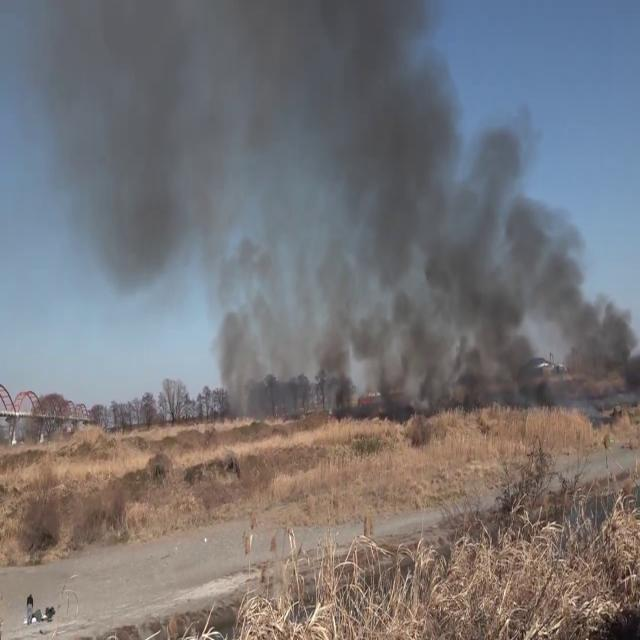Smoke: (21, 0, 450, 414), (445, 132, 640, 398)
